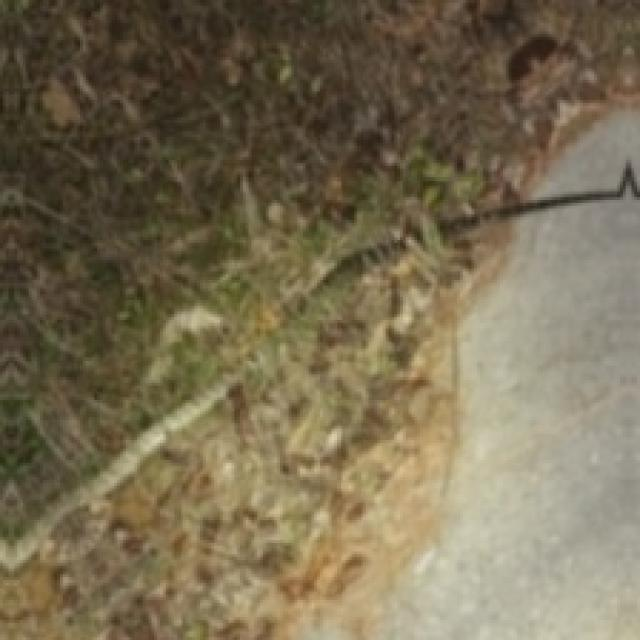king cobra: (0, 374, 242, 572), (446, 165, 640, 227), (281, 247, 402, 326)
